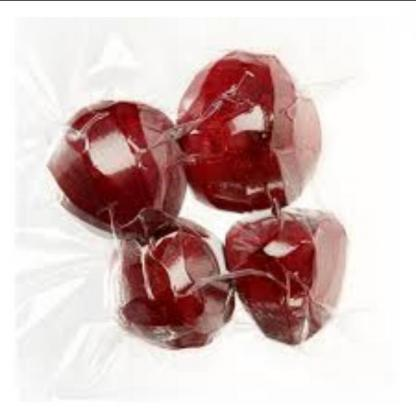beet: (172, 36, 323, 224), (35, 95, 196, 236), (98, 212, 232, 360), (225, 208, 352, 362)
